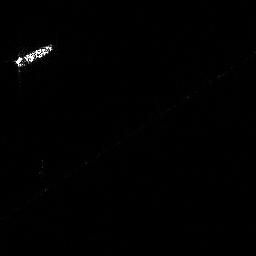ship: (15, 43, 55, 67)
